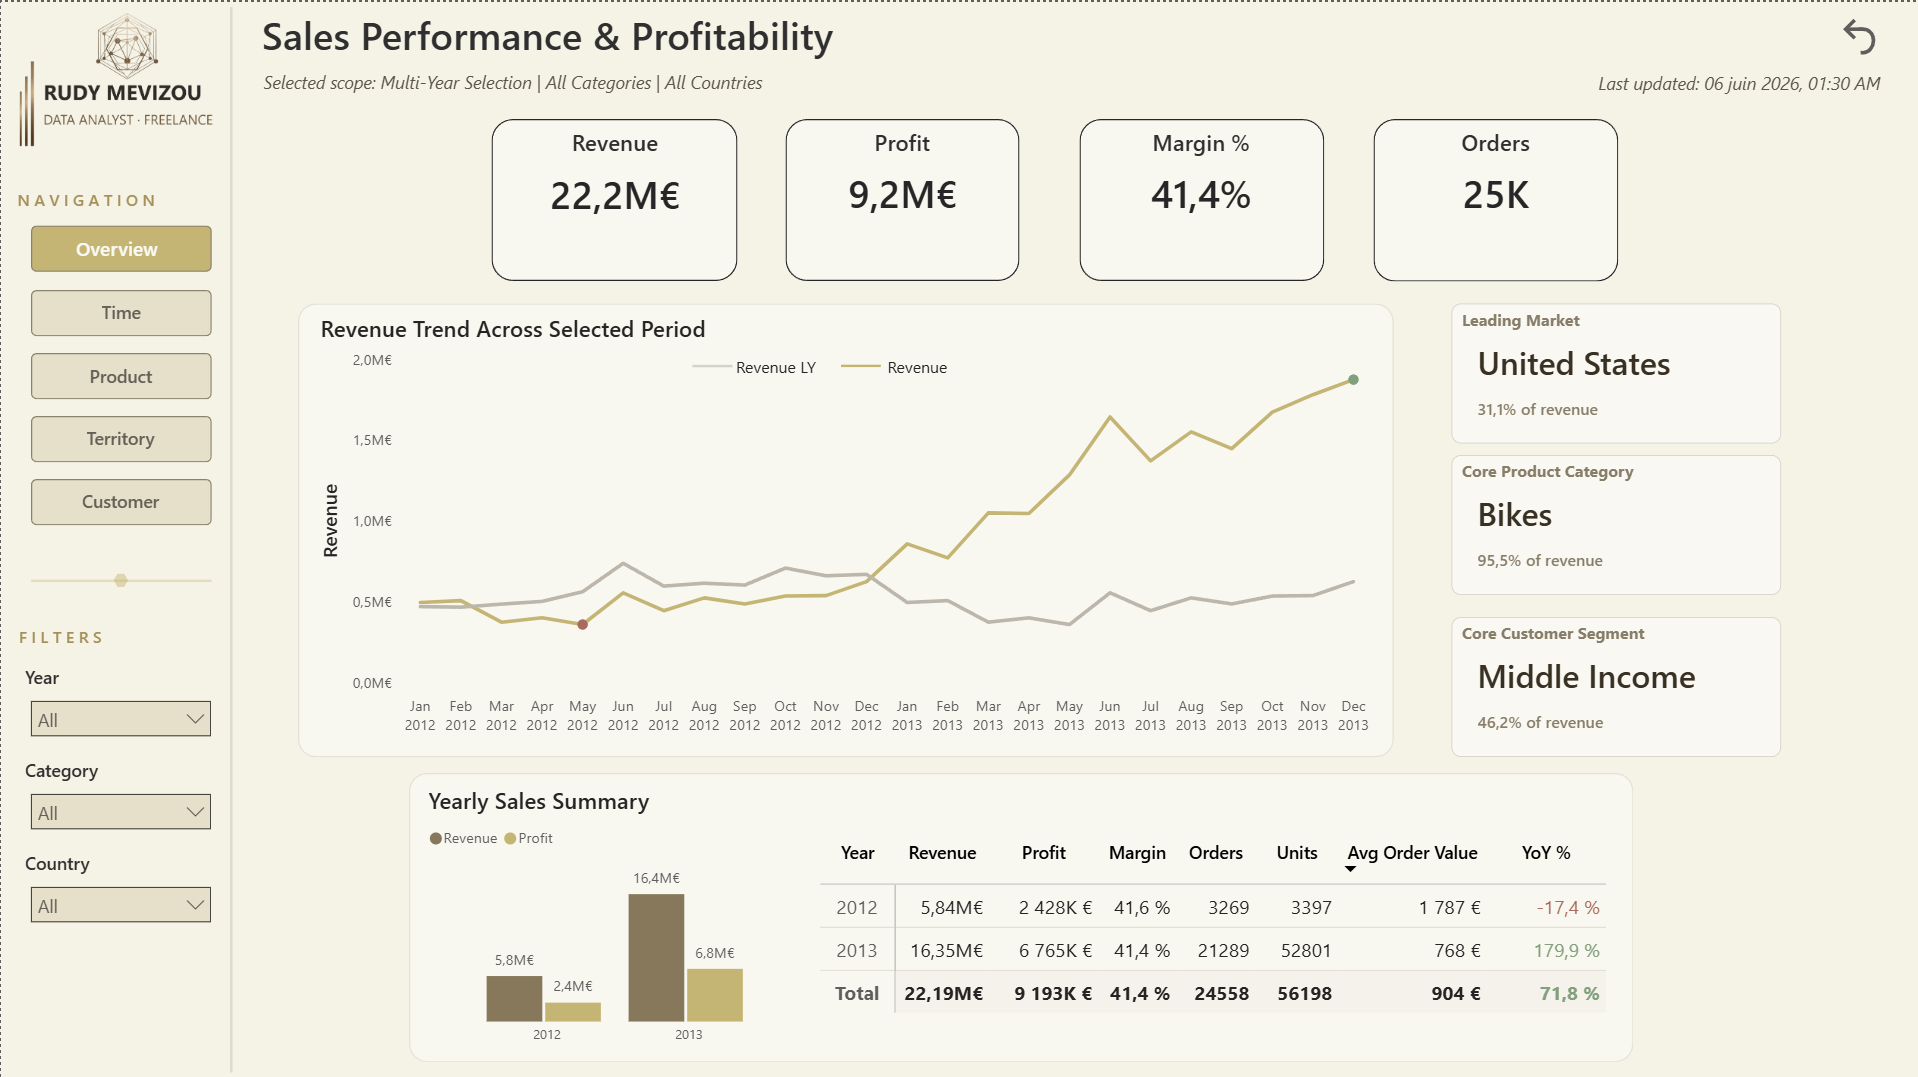

What the dashboard file says about the page in this screenshot:
{"tool":"powerbi","page":{"name":"Sales Overview","canvas":[1600,900],"ordinal":0},"visuals":[{"type":"textbox","box":[213.3,0,501.2,56.2],"z":0,"group":"g23"},{"type":"group","id":"g1","title":"KPI Orders","box":[1144,98.1,204,135.5],"z":0,"group":"g18"},{"type":"shape","box":[1144,98.1,204,135.5],"z":0,"group":"g1"},{"type":"shape","box":[654,98.3,195,135],"z":0,"group":"g13"},{"type":"shape","box":[408.7,98.5,205,135],"z":0,"group":"g19"},{"type":"shape","box":[899,98.6,204,135],"z":0,"group":"g4"},{"type":"card","title":"Profit","fields":{"Values":["Mesures.Profit"]},"box":[674.2,104.8,154.5,86.4],"z":0,"group":"g5"},{"type":"card","title":"Orders","fields":{"Values":["Mesures.Orders"]},"box":[1186.7,104.8,118.6,86.4],"z":0,"group":"g6"},{"type":"card","title":"Margin %","fields":{"Values":["Mesures.Margin %"]},"box":[930.8,104.9,140.4,86.7],"z":0,"group":"g7"},{"type":"card","title":"Revenue","fields":{"Values":["Mesures.Revenue"]},"box":[419.6,105,183.2,88.1],"z":0,"group":"g8"},{"type":"shape","box":[25.5,186.6,150.6,38.6],"z":0,"group":"g22"},{"type":"shape","box":[25.5,239.3,150.6,38.6],"z":0,"group":"g20"},{"type":"cardVisual","title":"Leading Market","fields":{"Data":["Mesures.Top Market","Mesures.Top Market Share Label"]},"box":[1209.4,251.3,274.4,116.4],"z":0,"group":"g12"},{"type":"shape","box":[576.3,285,33.5,36.8],"z":0,"group":"g16"},{"type":"shape","box":[25.5,292,150.6,38.6],"z":0,"group":"g17"},{"type":"card","fields":{"Values":["Mesures.Dynamic Alert Message"]},"box":[357.7,317.2,686.7,279.2],"z":0,"group":"g15"},{"type":"shape","box":[25.5,344.7,150.6,38.6],"z":0,"group":"g9"},{"type":"group","id":"g2","title":"Customer button","box":[25.4,397.5,150.6,38.6],"z":0,"group":"g14"},{"type":"shape","box":[25.4,397.5,150.6,38.6],"z":0,"group":"g2"},{"type":"shape","box":[25,476.5,150.5,12.2],"z":0,"group":"g10"},{"type":"group","id":"g3","title":"Filters label","box":[10.5,513.7,175.5,255.8],"z":0,"group":"g21"},{"type":"shape","box":[662.9,671,21.9,199.4],"z":0,"group":"g11"},{"type":"slicer","title":"Country","fields":{"Values":["Territory.Country"]},"box":[16,707.5,170,62],"z":0,"group":"g3"},{"type":"card","fields":{"Values":["Mesures.Last Updated"]},"box":[1321.2,56.2,253.8,27],"z":1000,"group":"g23"},{"type":"group","id":"g4","title":"KPI Margin %","box":[899,98.6,204,135],"z":1000,"group":"g18"},{"type":"group","id":"g5","title":"Groupe 9","box":[674.2,104.8,154.5,127.6],"z":1000,"group":"g13"},{"type":"group","id":"g6","title":"Groupe 4","box":[1174,104.8,144,127.6],"z":1000,"group":"g1"},{"type":"group","id":"g7","title":"Groupe 2","box":[929,104.9,150,128],"z":1000,"group":"g4"},{"type":"group","id":"g8","title":"Groupe 5","box":[419.6,105,183.2,127.4],"z":1000,"group":"g19"},{"type":"textbox","box":[58,189.2,85.5,32.5],"z":1000,"group":"g22"},{"type":"card","fields":{"Values":["Mesures.Orders YoY Label"]},"box":[1174,201.5,144,30.9],"z":1000,"group":"g6"},{"type":"card","fields":{"Values":["Mesures.Revenue YoY Label"]},"box":[441.3,202.4,138.9,30],"z":1000,"group":"g8"},{"type":"card","fields":{"Values":["Mesures.Profit YoY Label"]},"box":[677.1,202.4,137.1,30],"z":1000,"group":"g5"},{"type":"card","fields":{"Values":["Mesures.Margin YoY Label"]},"box":[929,202.8,150,30.1],"z":1000,"group":"g7"},{"type":"textbox","box":[79.1,242.3,43.5,32.6],"z":1000,"group":"g20"},{"type":"shape","box":[247.9,251.3,913.1,378.1],"z":1000,"group":"g15"},{"type":"shape","box":[700.3,285.5,33.2,36.5],"z":1000,"group":"g16"},{"type":"textbox","box":[68.8,295.2,63.9,32.2],"z":1000,"group":"g17"},{"type":"group","id":"g9","title":"Territory button","box":[25.5,344.7,150.6,38.6],"z":1000,"group":"g14"},{"type":"textbox","box":[67.3,347.7,67,32.6],"z":1000,"group":"g9"},{"type":"cardVisual","title":"Core Product Category","fields":{"Data":["Mesures.Core Product Category","Mesures.Core Product Category Share Label"]},"box":[1209.4,377,274.4,116.4],"z":1000,"group":"g12"},{"type":"textbox","box":[62.6,399.4,76.2,32.5],"z":1000,"group":"g2"},{"type":"group","id":"g10","title":"Separator Line","box":[25,476.5,150.5,12.2],"z":1000,"group":"g21"},{"type":"shape","box":[94.1,476.5,12.2,11.3],"z":1000,"group":"g10"},{"type":"slicer","title":"Category","fields":{"Values":["Product.ProductCategory"]},"box":[16,630.1,170,62],"z":1000,"group":"g3"},{"type":"group","id":"g11","title":"06 - Chat & Bar","box":[340,642.5,1020.3,241],"z":1000},{"type":"shape","box":[340,642.5,1020.3,241],"z":1000,"group":"g11"},{"type":"group","id":"g12","title":"05 - KPI secondaire","box":[1209.4,251.3,274.4,378.1],"z":1500},{"type":"group","id":"g13","title":"KPI Profit","box":[654,98.3,195,135],"z":2000,"group":"g18"},{"type":"group","id":"g14","title":"Navigation label","box":[8.9,149.8,167.2,286.2],"z":2000,"group":"g21"},{"type":"group","id":"g15","title":"04 - Revenue trend","box":[247.9,251.3,913.1,378.1],"z":2000},{"type":"group","id":"g16","title":"Legend","box":[576.3,285,250,42.5],"z":2000,"group":"g15"},{"type":"textbox","box":[733.8,288.1,92.5,38.8],"z":2000,"group":"g16"},{"type":"group","id":"g17","title":"Product button","box":[25.5,292,150.6,38.6],"z":2000,"group":"g14"},{"type":"cardVisual","title":"Core Customer Segment","fields":{"Data":["Mesures.Core Customer Segment","Mesures.Core Customer Segment Share Label"]},"box":[1209.4,513,274.4,116.4],"z":2000,"group":"g12"},{"type":"slicer","title":"Year","fields":{"Values":["Date.CalendarYear Hiérarchie.CalendarYear"]},"box":[16,551.8,170,62.8],"z":2000,"group":"g3"},{"type":"pivotTable","title":"Sales Summary","fields":{"Values":["Mesures.Revenue","Mesures.Profit","Mesures.Margin %","Mesures.Orders","Mesures.Units Sold","Mesures.Average Order Value","Mesures.Revenue YoY %"],"Rows":["Date.CalendarYear"]},"box":[677.1,686.8,670,165.7],"z":2000,"group":"g11"},{"type":"shape","box":[181.4,4.3,21.4,888.6],"z":3000,"group":"g21"},{"type":"actionButton","box":[1528.7,8.8,50,40],"z":3000,"group":"g23"},{"type":"group","id":"g18","title":"03 - KPI","box":[408.7,98.1,939.3,135.5],"z":3000},{"type":"group","id":"g19","title":"KPI Revenue","box":[408.7,98.5,205,135],"z":3000,"group":"g18"},{"type":"group","id":"g20","title":"Time button","box":[25.5,239.3,150.6,38.6],"z":3000,"group":"g14"},{"type":"lineChart","fields":{"Category":["Date.Month Year"],"Y":["Mesures.Revenue Display","Mesures.Revenue LY Display - Chart","Mesures.Revenue Display Min Point","Mesures.Revenue Display Max Point"]},"box":[261.7,259.1,886,359],"z":3000,"group":"g15"},{"type":"textbox","box":[607.4,288.2,93.9,38.5],"z":3000,"group":"g16"},{"type":"textbox","title":"Filters text","box":[10.5,513.7,136.4,36.4],"z":3000,"group":"g3"},{"type":"clusteredColumnChart","title":"Yearly Sales Summary","fields":{"Category":["Date.CalendarYear"],"Y":["Mesures.Revenue","Mesures.Profit"]},"box":[351.1,651.9,325.1,224.8],"z":3000,"group":"g11"},{"type":"group","id":"g21","title":"02 - Sidebar","box":[0,0,202.9,892.9],"z":4000},{"type":"image","title":"Logo","box":[0,0,201.7,136.7],"z":4000,"group":"g21"},{"type":"card","fields":{"Values":["Mesures.Selection Summary"]},"box":[212.9,55,427.5,28.2],"z":4000,"group":"g23"},{"type":"group","id":"g22","title":"Overview button","box":[25.5,186.6,150.6,38.6],"z":4000,"group":"g14"},{"type":"group","id":"g23","title":"01 - Header","box":[212.9,0,1365.8,83.2],"z":5000},{"type":"textbox","title":"Navigation text","box":[8.9,149.8,145.6,36],"z":5000,"group":"g14"}]}

Visuals, with their boxes in screenshot pixels (x1, y1, x2, y2), scaled from the page's 1600x900 canvas onto the 1918x1077 screenshot:
textbox: detection(256, 0, 857, 67)
"KPI Orders" group: detection(1371, 117, 1616, 280)
shape: detection(1371, 117, 1616, 280)
shape: detection(784, 118, 1018, 279)
shape: detection(490, 118, 736, 279)
shape: detection(1078, 118, 1322, 280)
"Profit" card: detection(808, 125, 993, 229)
"Orders" card: detection(1423, 125, 1565, 229)
"Margin %" card: detection(1116, 126, 1284, 229)
"Revenue" card: detection(503, 126, 723, 231)
shape: detection(31, 223, 211, 269)
shape: detection(31, 286, 211, 333)
"Leading Market" cardVisual: detection(1450, 301, 1779, 440)
shape: detection(691, 341, 731, 385)
shape: detection(31, 349, 211, 396)
card - Mesures.Dynamic Alert Message: detection(429, 380, 1252, 714)
shape: detection(31, 412, 211, 459)
"Customer button" group: detection(30, 476, 211, 522)
shape: detection(30, 476, 211, 522)
shape: detection(30, 570, 210, 585)
"Filters label" group: detection(13, 615, 223, 921)
shape: detection(795, 803, 821, 1042)
"Country" slicer: detection(19, 847, 223, 921)
card - Mesures.Last Updated: detection(1584, 67, 1888, 100)
"KPI Margin %" group: detection(1078, 118, 1322, 280)
"Groupe 9" group: detection(808, 125, 993, 278)
"Groupe 4" group: detection(1407, 125, 1580, 278)
"Groupe 2" group: detection(1114, 126, 1293, 279)
"Groupe 5" group: detection(503, 126, 723, 278)
textbox: detection(70, 226, 172, 265)
card - Mesures.Orders YoY Label: detection(1407, 241, 1580, 278)
card - Mesures.Revenue YoY Label: detection(529, 242, 696, 278)
card - Mesures.Profit YoY Label: detection(812, 242, 976, 278)
card - Mesures.Margin YoY Label: detection(1114, 243, 1293, 279)
textbox: detection(95, 290, 147, 329)
shape: detection(297, 301, 1392, 753)
shape: detection(839, 342, 879, 385)
textbox: detection(82, 353, 159, 392)
"Territory button" group: detection(31, 412, 211, 459)
textbox: detection(81, 416, 161, 455)
"Core Product Category" cardVisual: detection(1450, 451, 1779, 590)
textbox: detection(75, 478, 166, 517)
"Separator Line" group: detection(30, 570, 210, 585)
shape: detection(113, 570, 127, 584)
"Category" slicer: detection(19, 754, 223, 828)
"06 - Chat & Bar" group: detection(408, 769, 1631, 1057)
shape: detection(408, 769, 1631, 1057)
"05 - KPI secondaire" group: detection(1450, 301, 1779, 753)
"KPI Profit" group: detection(784, 118, 1018, 279)
"Navigation label" group: detection(11, 179, 211, 522)
"04 - Revenue trend" group: detection(297, 301, 1392, 753)
"Legend" group: detection(691, 341, 991, 392)
textbox: detection(880, 345, 991, 391)
"Product button" group: detection(31, 349, 211, 396)
"Core Customer Segment" cardVisual: detection(1450, 614, 1779, 753)
"Year" slicer: detection(19, 660, 223, 735)
"Sales Summary" pivotTable: detection(812, 822, 1615, 1020)
shape: detection(217, 5, 243, 1069)
actionButton: detection(1833, 11, 1892, 58)
"03 - KPI" group: detection(490, 117, 1616, 280)
"KPI Revenue" group: detection(490, 118, 736, 279)
"Time button" group: detection(31, 286, 211, 333)
lineChart - Date.Month Year x Mesures.Revenue Display: detection(314, 310, 1376, 740)
textbox: detection(728, 345, 841, 391)
"Filters text" textbox: detection(13, 615, 176, 658)
"Yearly Sales Summary" clusteredColumnChart: detection(421, 780, 811, 1049)
"02 - Sidebar" group: detection(0, 0, 243, 1069)
"Logo" image: detection(0, 0, 242, 164)
card - Mesures.Selection Summary: detection(255, 66, 768, 100)
"Overview button" group: detection(31, 223, 211, 269)
"01 - Header" group: detection(255, 0, 1892, 100)
"Navigation text" textbox: detection(11, 179, 185, 222)
